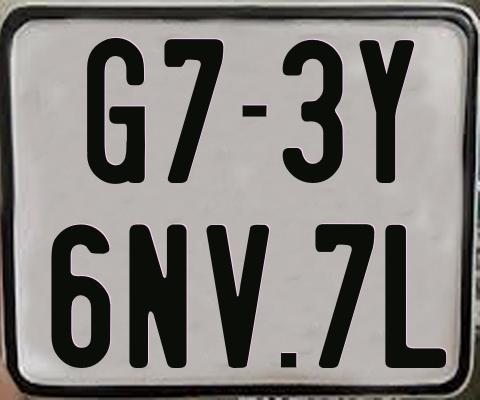3: (280, 37, 344, 185)
6: (50, 222, 109, 366)
7: (161, 39, 221, 189), (312, 224, 371, 370)
G: (84, 37, 148, 186)
L: (383, 223, 444, 370)
N: (128, 222, 187, 366)
V: (206, 222, 269, 371)
Y: (358, 39, 417, 184)
